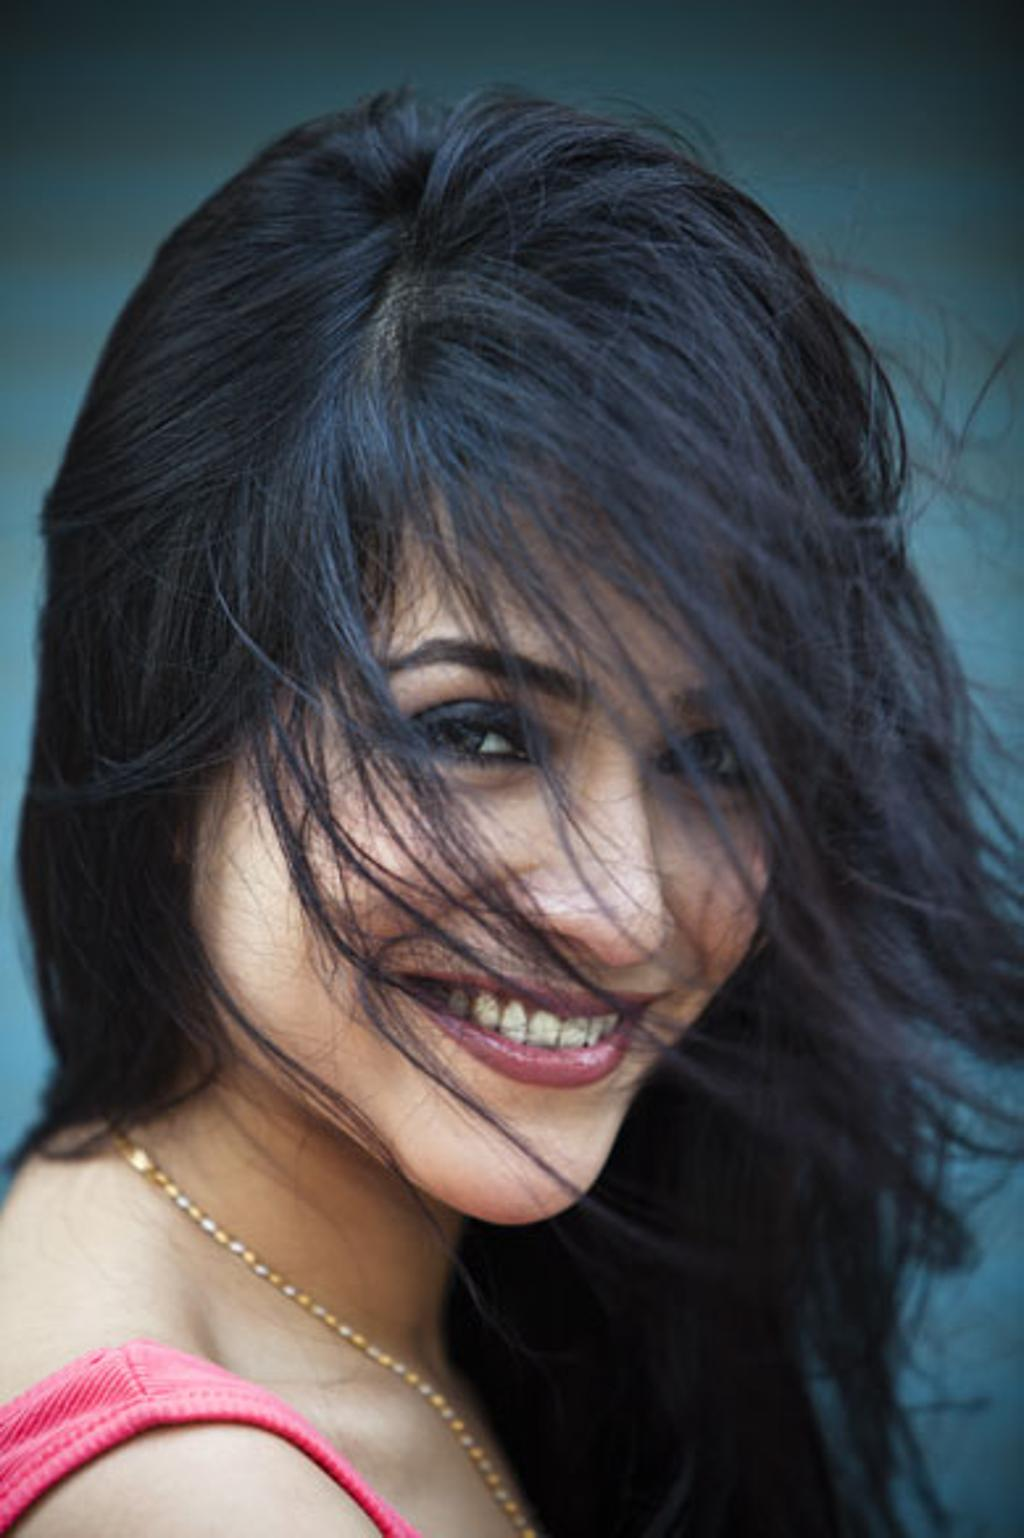face: (189, 405, 778, 1222)
